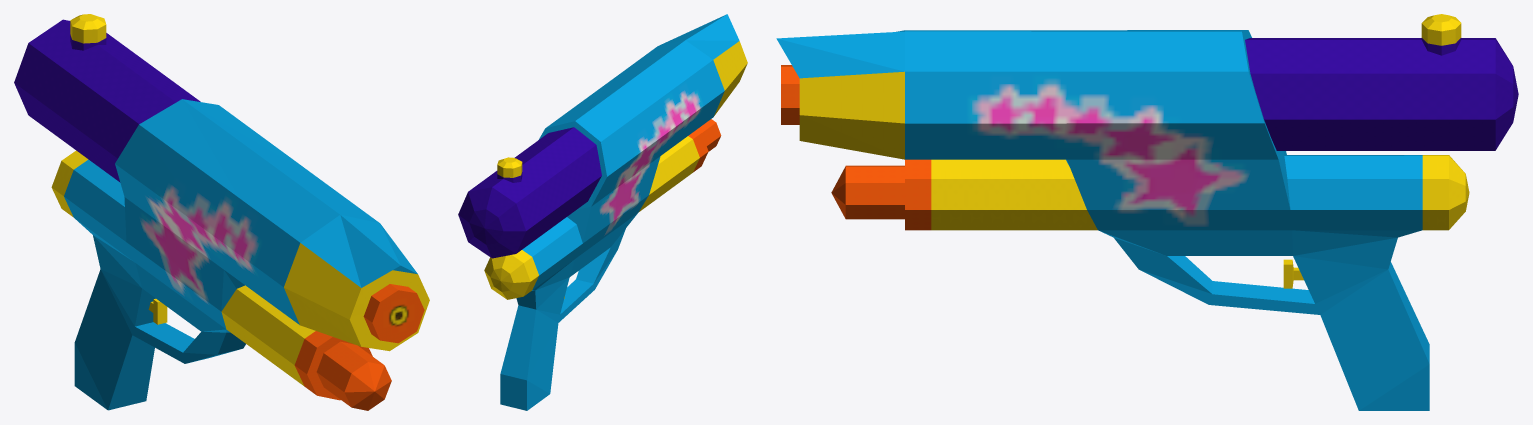
Rendered from Water Gun (DR).obj.
3 renders of one model, left to right at view 1: azimuth 30°, elevation 25°; view 2: azimuth 150°, elevation 25°; view 3: azimuth 270°, elevation 25°, orthographic. The views are drawn at different scales.
Parts seen in each view (by area): view 1: rdmobj00_model\om\om0; view 2: rdmobj00_model\om\om0; view 3: rdmobj00_model\om\om0.
Part boxes in pixels (x1,y1,x2,y2): rdmobj00_model\om\om0: [14, 14, 429, 410]; rdmobj00_model\om\om0: [458, 14, 747, 410]; rdmobj00_model\om\om0: [776, 14, 1518, 410].
Bounding box in the file's own units: 0.9451 × 2.87 × 5.05.
